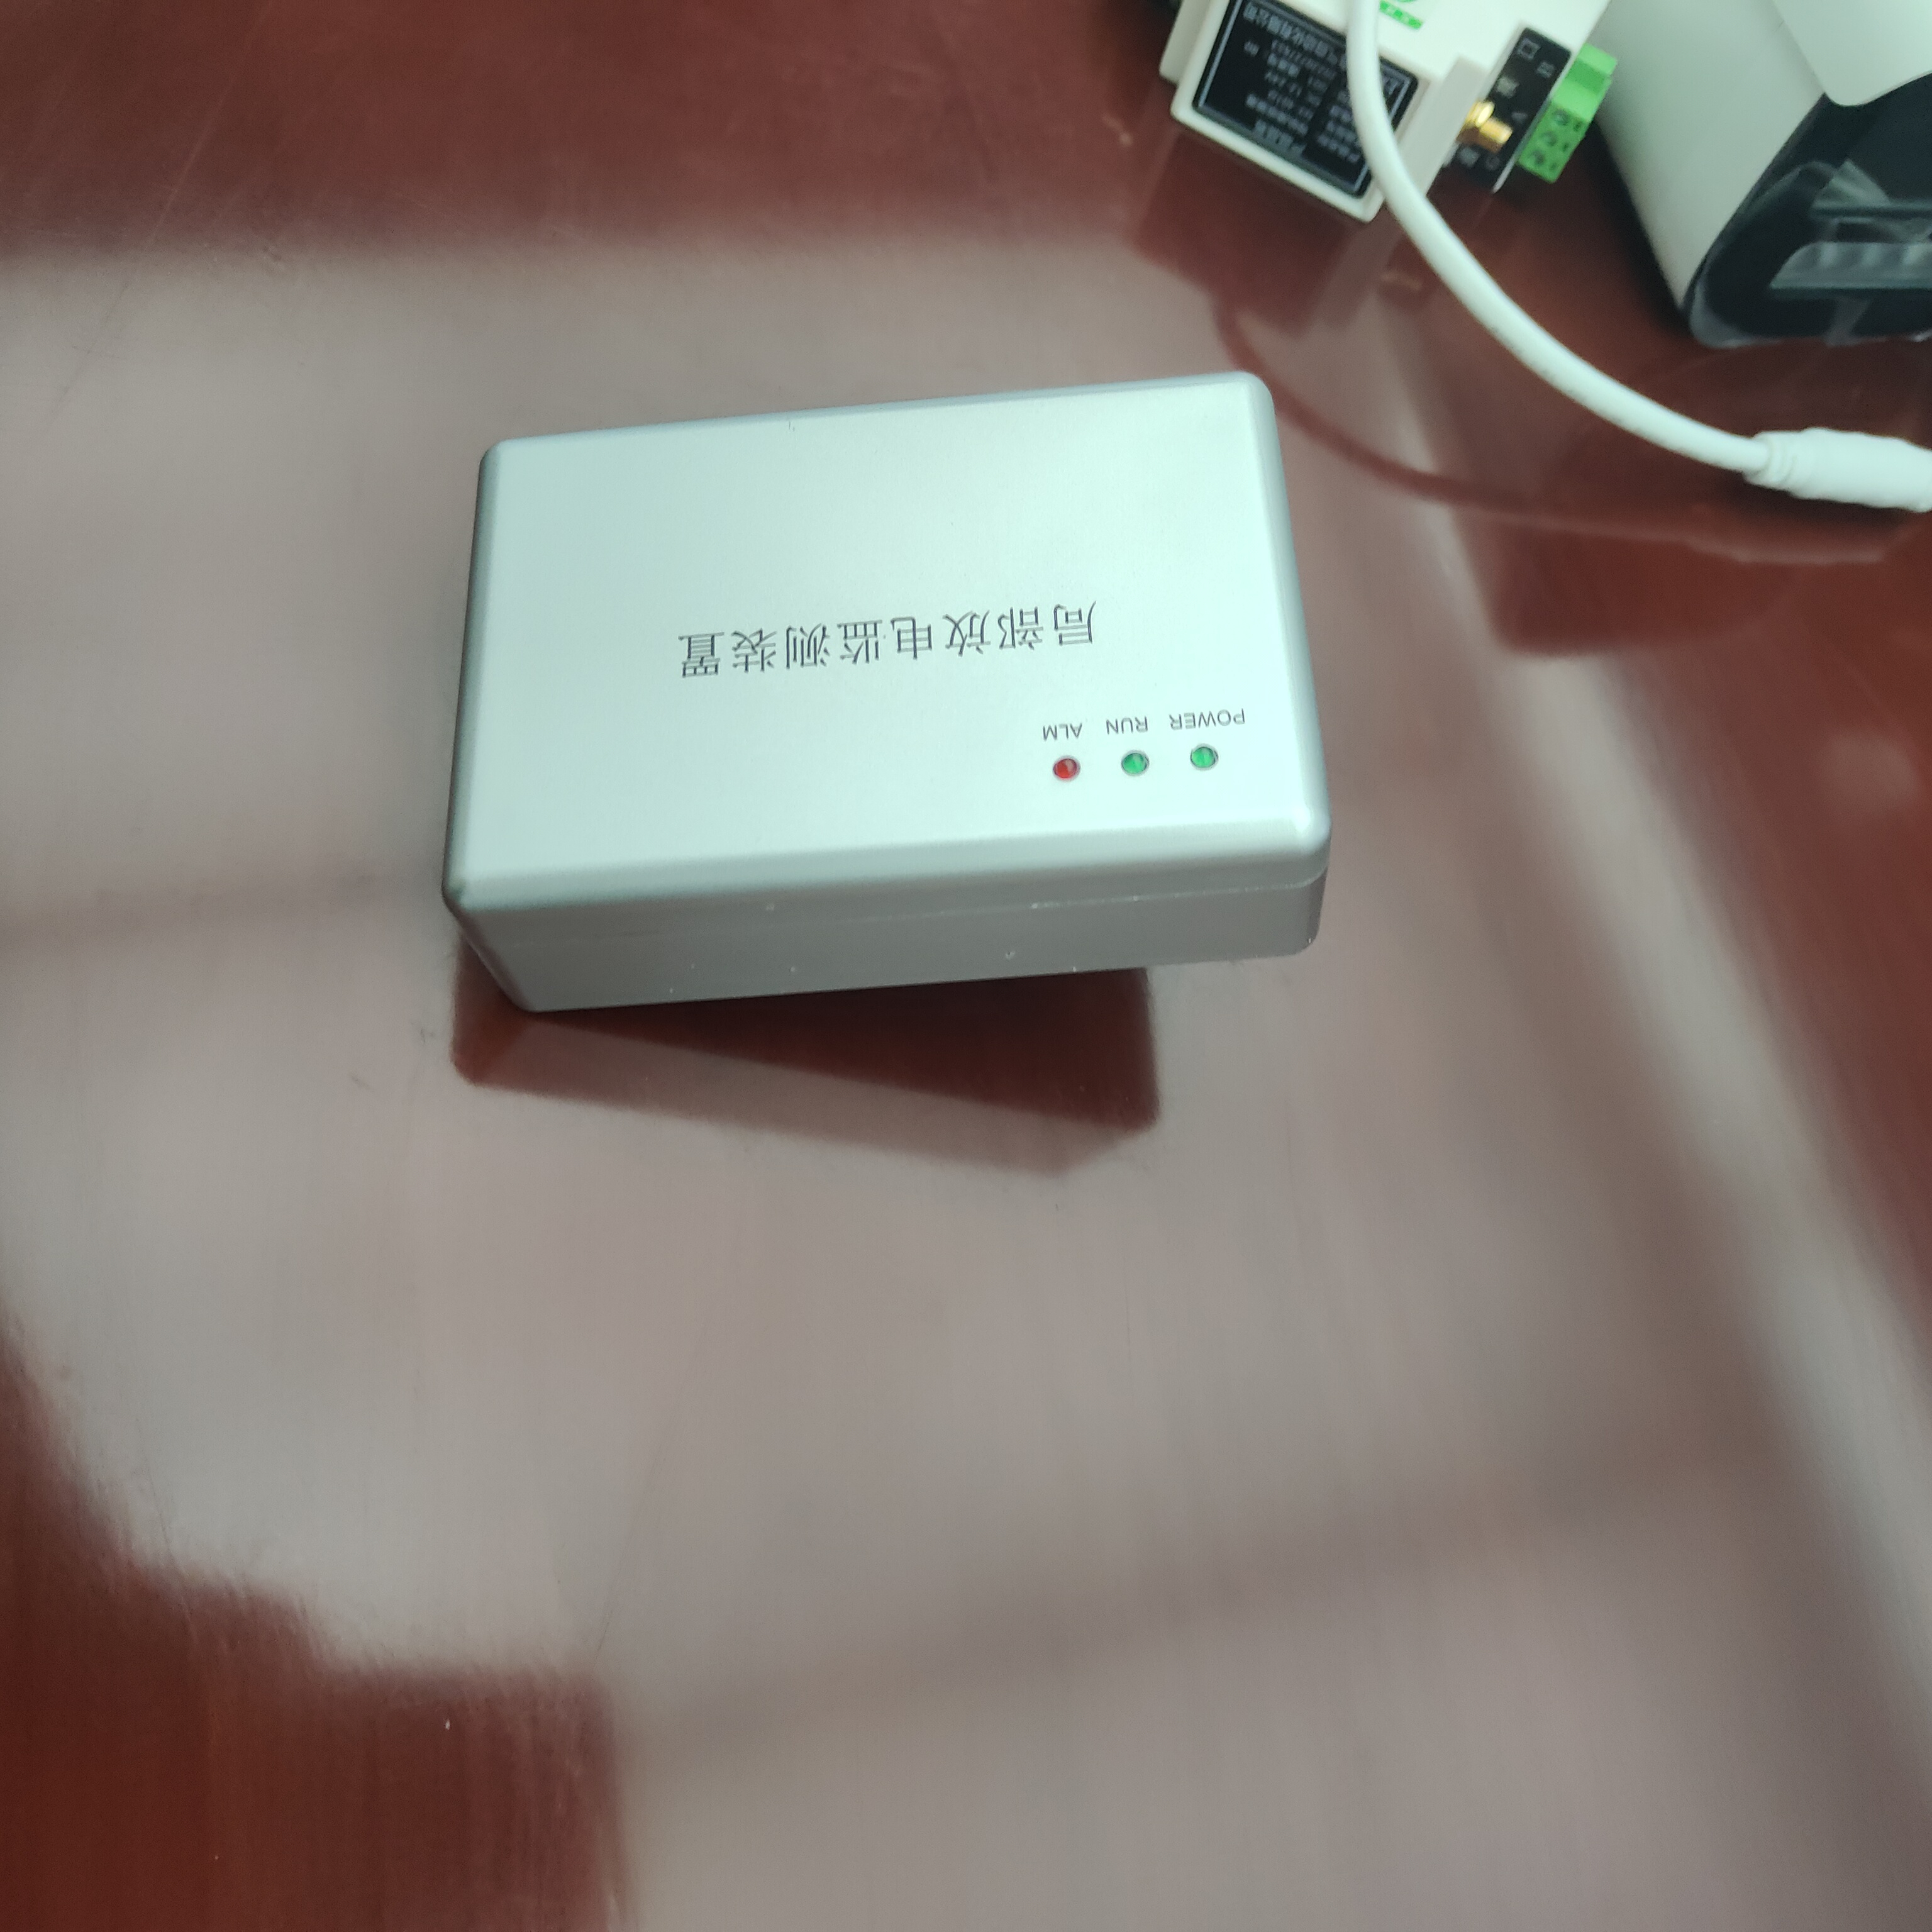jbfdjc: (423, 375, 1357, 1109)
